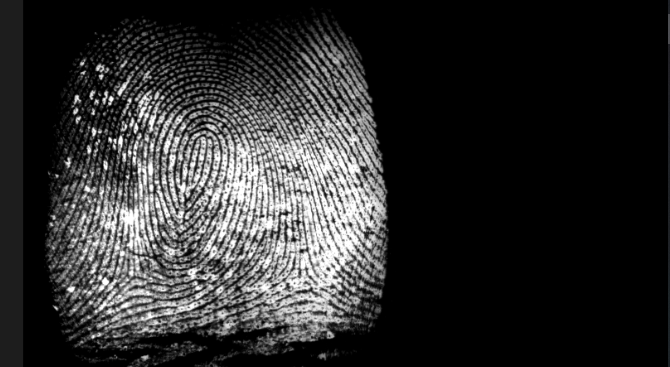nucelo: (181, 128, 215, 180)
verticilo: (114, 257, 152, 294), (287, 262, 323, 290)
